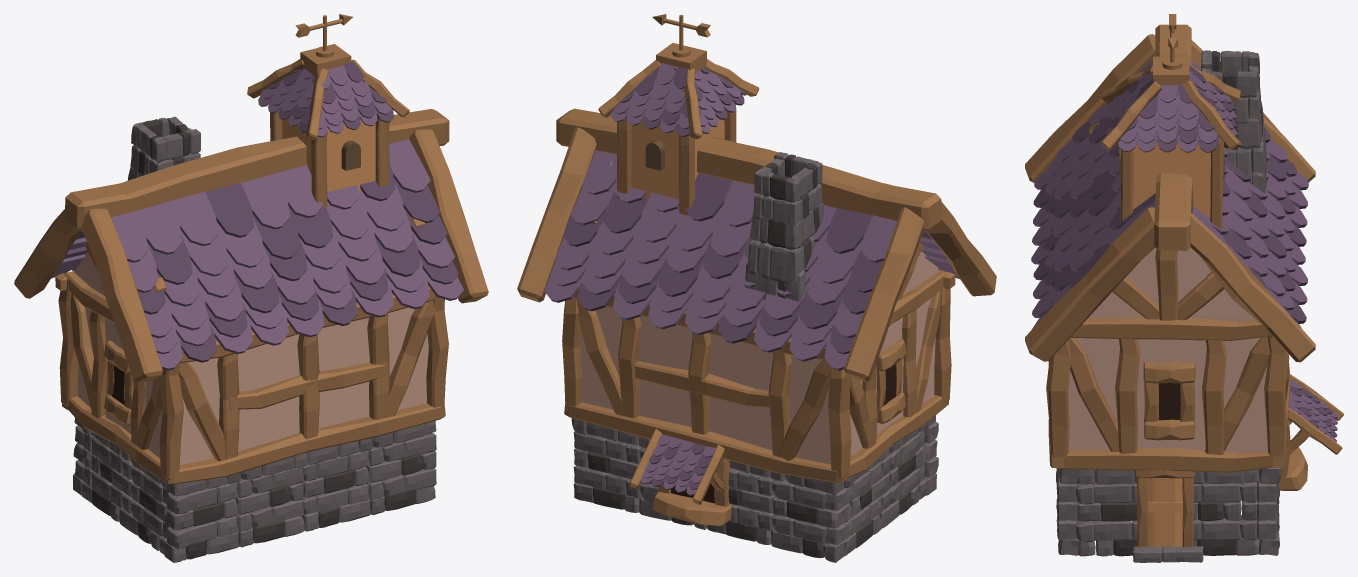
Rendered from Bakery.fbx.
The picture shows the model from 3 angles, left to right: view 1: azimuth 30°, elevation 25°; view 2: azimuth 150°, elevation 25°; view 3: azimuth 270°, elevation 25°; orthographic projection. The views are drawn at different scales.
Visible parts, largest first — view 1: Cube.003; view 2: Cube.003; view 3: Cube.003.
Boxes of the visible parts, x1,y1,x2,y2 form: Cube.003: (14,14,488,562); Cube.003: (517,14,996,562); Cube.003: (1025,14,1343,562).
Size of the model in its own units: 1007 by 1192 by 686.
